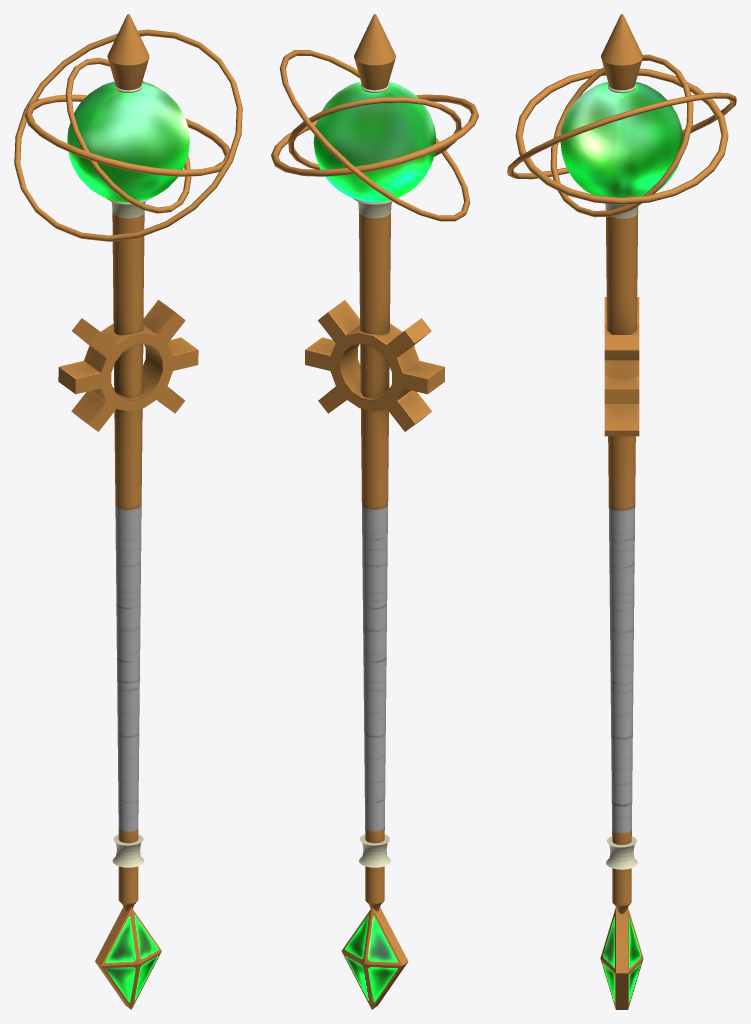
Rendered from magestaff_low.glb.
3 renders of one model, left to right at view 1: azimuth 30°, elevation 25°; view 2: azimuth 150°, elevation 25°; view 3: azimuth 270°, elevation 25°, orthographic.
Parts seen in each view (by area): view 1: magestaff_low, magestafftorus2_low, magestafftorus_low, magestafftorus1_low; view 2: magestaff_low, magestafftorus2_low, magestafftorus_low, magestafftorus1_low; view 3: magestaff_low, magestafftorus_low, magestafftorus1_low, magestafftorus2_low.
Part boxes in pixels (left/top/right/bottom): magestaff_low: left=58, top=14, right=198, bottom=1009; magestafftorus2_low: left=14, top=29, right=242, bottom=241; magestafftorus_low: left=24, top=94, right=229, bottom=176; magestafftorus1_low: left=65, top=57, right=191, bottom=213; magestaff_low: left=305, top=14, right=444, bottom=1009; magestafftorus2_low: left=279, top=50, right=470, bottom=221; magestafftorus_low: left=271, top=94, right=478, bottom=176; magestafftorus1_low: left=288, top=97, right=461, bottom=169; magestaff_low: left=560, top=14, right=682, bottom=1009; magestafftorus_low: left=515, top=68, right=728, bottom=204; magestafftorus1_low: left=550, top=54, right=693, bottom=217; magestafftorus2_low: left=507, top=92, right=736, bottom=179.
Size of the model in its own units: 0.3823 by 2.03 by 0.4244.
1 material, 1 textured.
